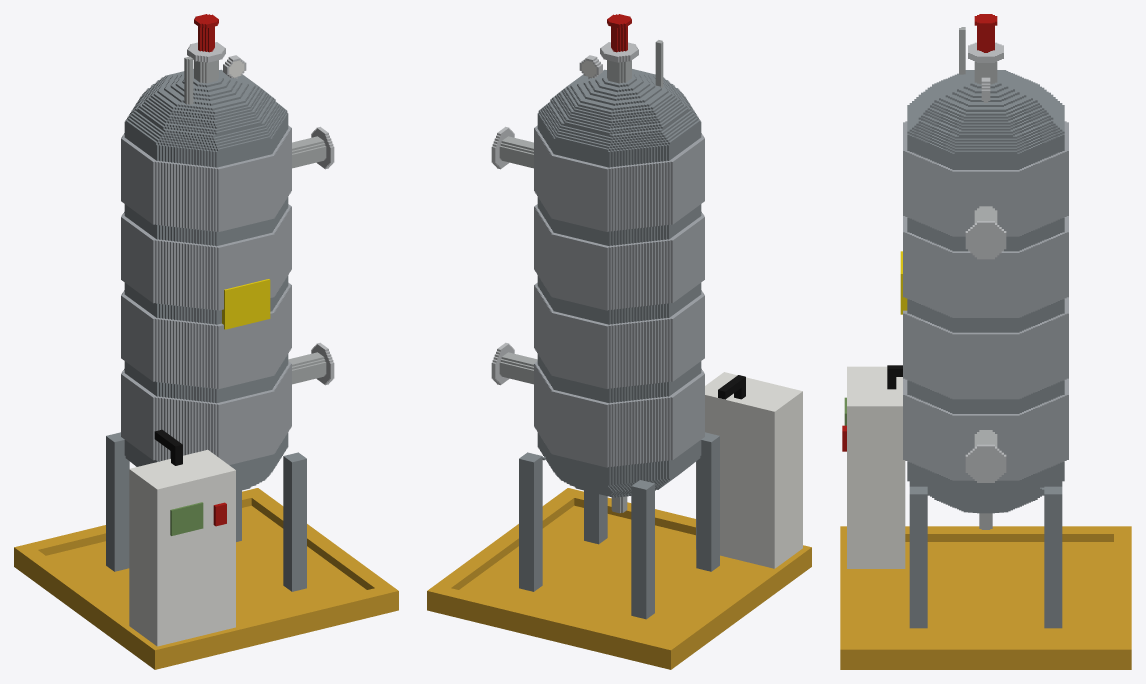
The model's file is ammonia_machine_reactor.glb.
3 renders of one model, left to right at view 1: azimuth 30°, elevation 25°; view 2: azimuth 150°, elevation 25°; view 3: azimuth 270°, elevation 25°, orthographic. The views are drawn at different scales.
Visible parts, largest first — view 1: ammonia_machine_reactor:compound; view 2: ammonia_machine_reactor:compound; view 3: ammonia_machine_reactor:compound.
Part boxes in pixels (x1=…): ammonia_machine_reactor:compound: x1=14, y1=14, x2=398, y2=669; ammonia_machine_reactor:compound: x1=427, y1=14, x2=811, y2=669; ammonia_machine_reactor:compound: x1=840, y1=14, x2=1131, y2=669.
Bounding box in the file's own units: 1.3 × 2.9 × 1.3.
